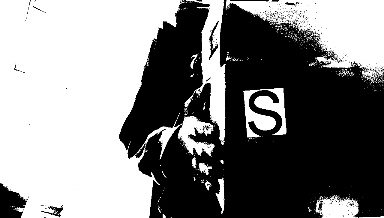S: (242, 87, 286, 134)
